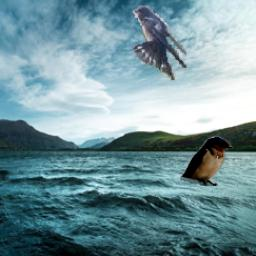Swallow: (132, 6, 188, 81), (180, 137, 233, 187)
